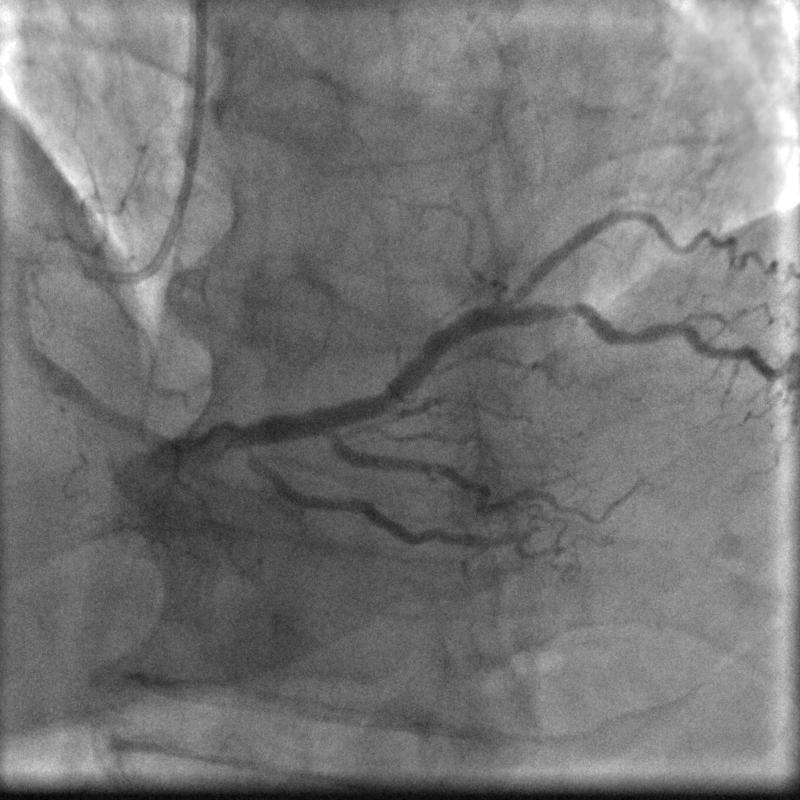Stenosis: (526, 298, 589, 326)
